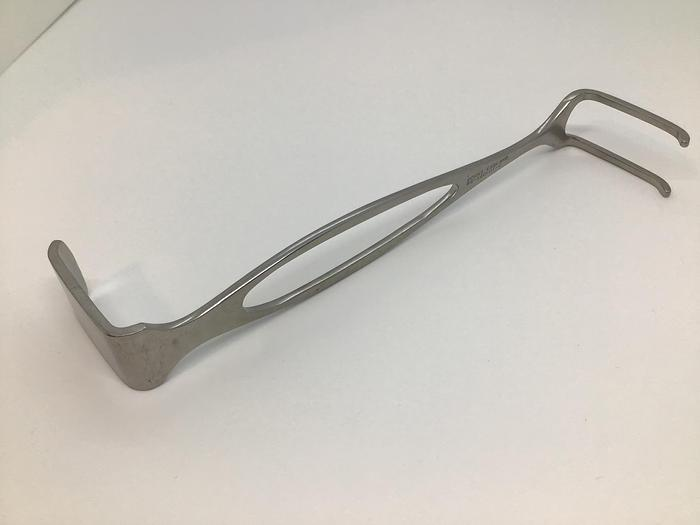Czerney Retractor: (45, 79, 691, 400)
